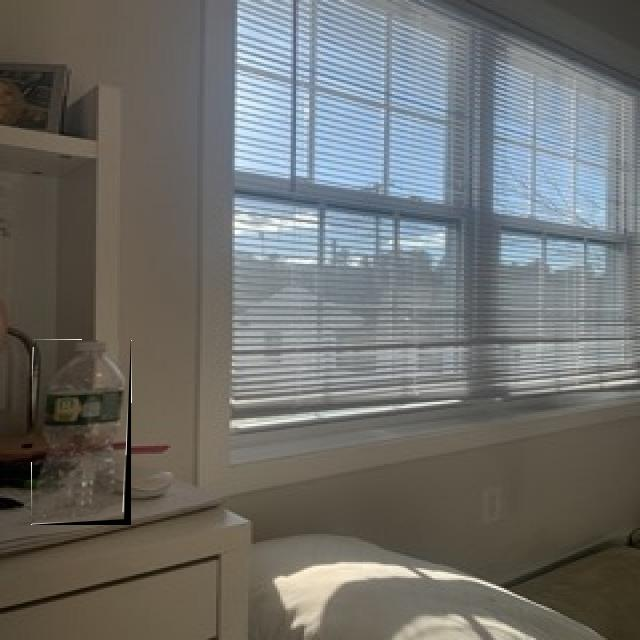water_bottle: (32, 340, 131, 525)
